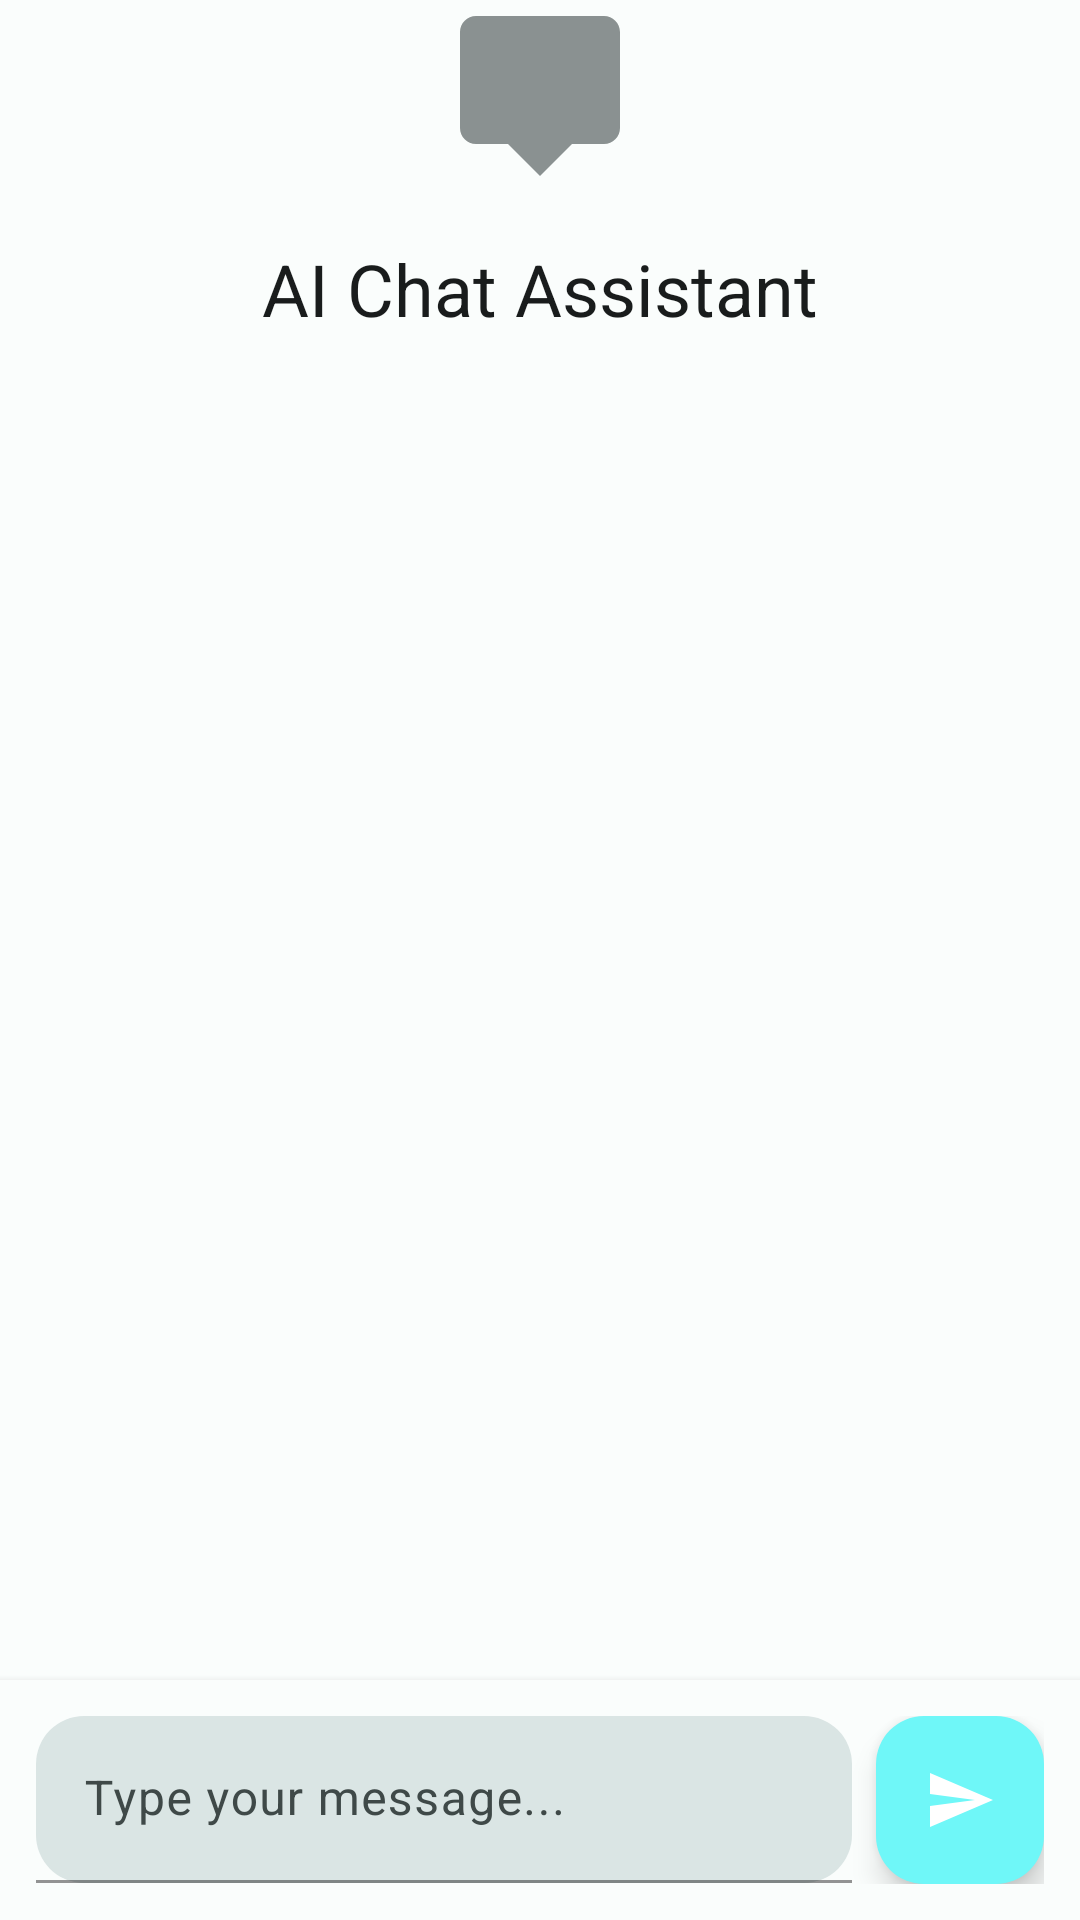

Point at icon controls on the screen. Image size 1080 × 1920, points as (x=x, y=y).
Send message: (x=960, y=1800)
